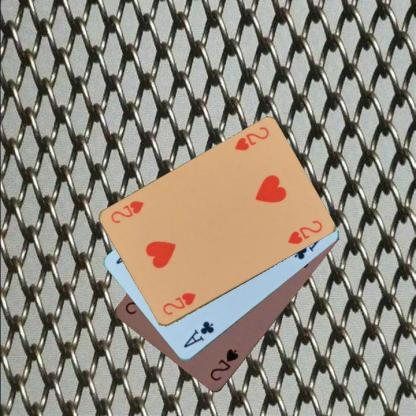2h: (232, 124, 270, 153), (159, 290, 197, 317)
2s: (207, 346, 240, 383)
Ac: (181, 318, 215, 350)
